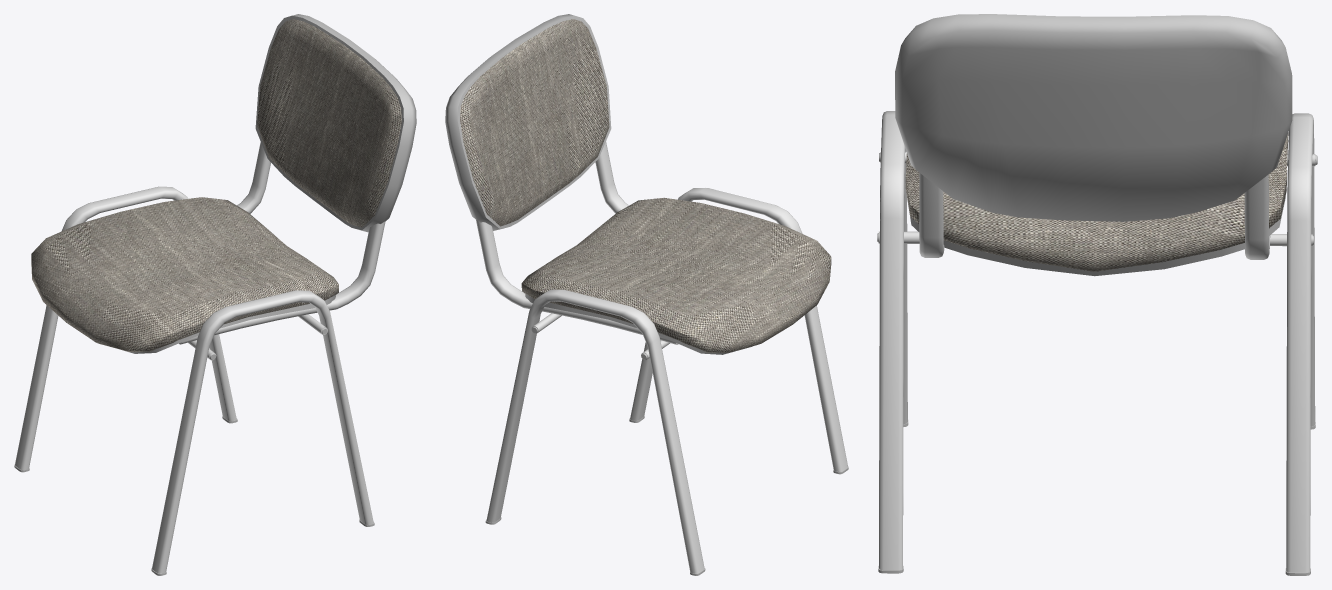
The model's file is Silla recepcion.fbx.
3 renders of one model, left to right at view 1: azimuth 30°, elevation 25°; view 2: azimuth 150°, elevation 25°; view 3: azimuth 270°, elevation 25°, orthographic. The views are drawn at different scales.
Visible parts, largest first — view 1: silla_recepcion; view 2: silla_recepcion; view 3: silla_recepcion.
Part boxes in pixels (x1,y1,x2,y2): silla_recepcion: (14,14,416,575); silla_recepcion: (445,14,848,575); silla_recepcion: (877,14,1317,575).
Size of the model in its own units: 1.83 by 2.41 by 1.62.
